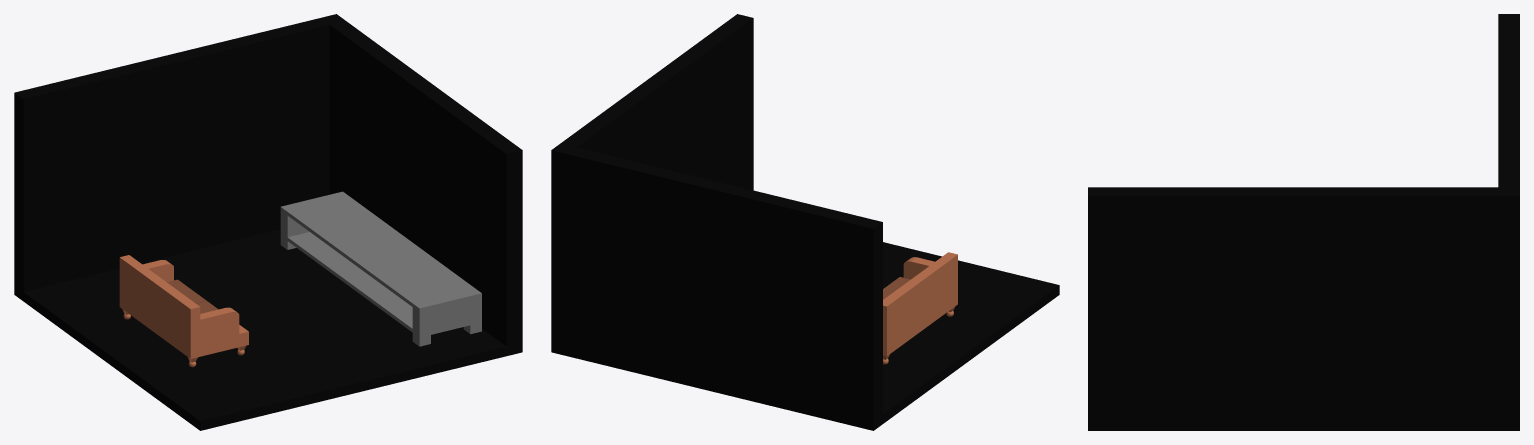
File: Room2.glb
3 renders of one model, left to right at view 1: azimuth 30°, elevation 25°; view 2: azimuth 150°, elevation 25°; view 3: azimuth 270°, elevation 25°, orthographic. The views are drawn at different scales.
Visible parts, largest first — view 1: Plane, Cube.003, Cube; view 2: Plane, Cube; view 3: Plane.
Part boxes in pixels (x1,y1,x2,y2): Plane: (14,14,522,430); Cube.003: (280,191,481,346); Cube: (119,255,248,367); Plane: (551,14,1059,430); Cube: (883,252,957,364); Plane: (1088,14,1519,430).
Bounding box in the file's own units: 44 × 26.37 × 44.
